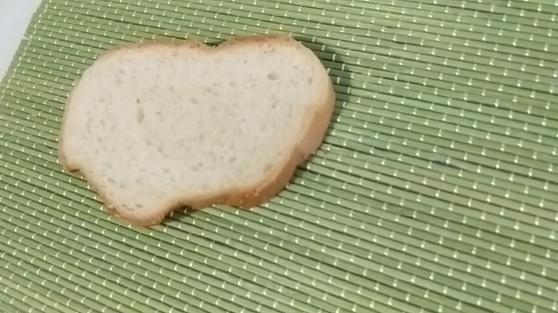white_bread: (58, 36, 336, 227)
